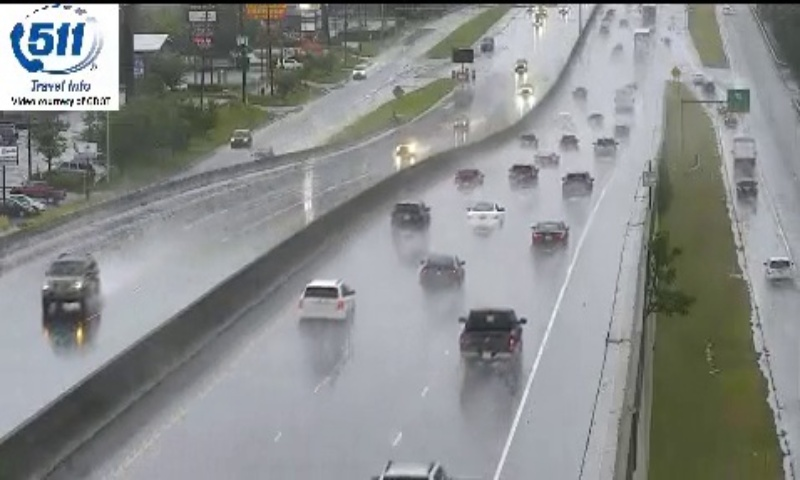car: (460, 310, 522, 361), (299, 280, 354, 319), (420, 253, 466, 287), (389, 201, 430, 230), (530, 220, 567, 249), (465, 201, 502, 230)
